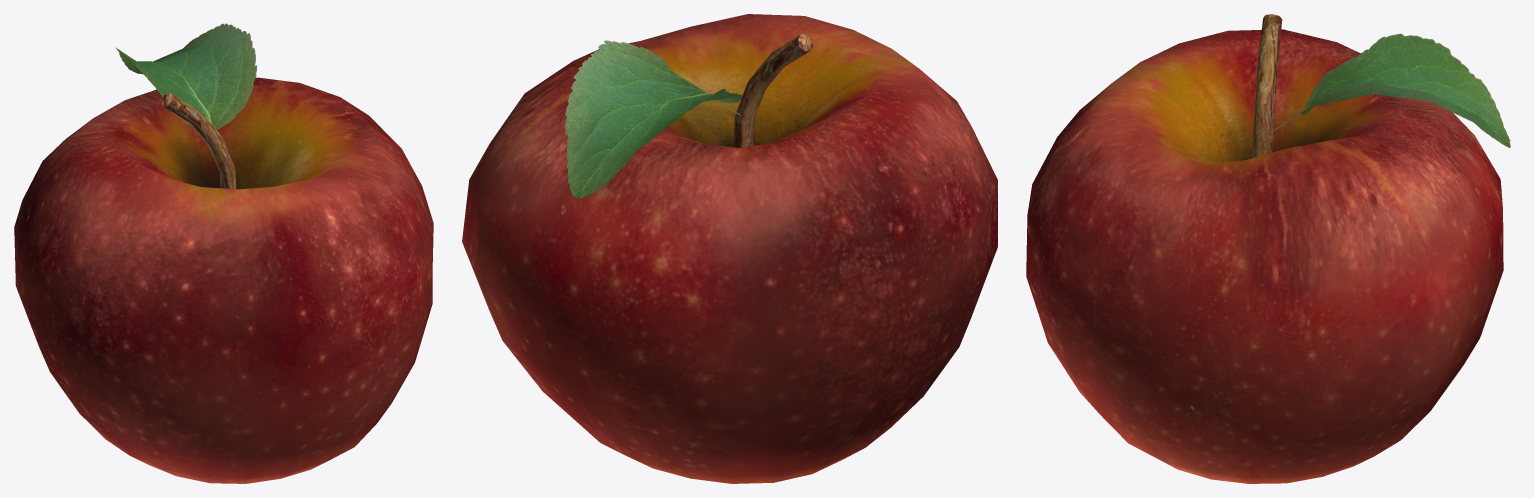
The model's file is tao111.glb.
3 renders of one model, left to right at view 1: azimuth 30°, elevation 25°; view 2: azimuth 150°, elevation 25°; view 3: azimuth 270°, elevation 25°, orthographic. The views are drawn at different scales.
Visible parts, largest first — view 1: Apple; view 2: Apple; view 3: Apple.
Part boxes in pixels (x1=…): Apple: x1=14, y1=23, x2=433, y2=483; Apple: x1=462, y1=14, x2=997, y2=483; Apple: x1=1026, y1=14, x2=1510, y2=483.
Size of the model in its own units: 2.61 by 2.34 by 2.67.
Materials: 2 (2 with a texture image).
